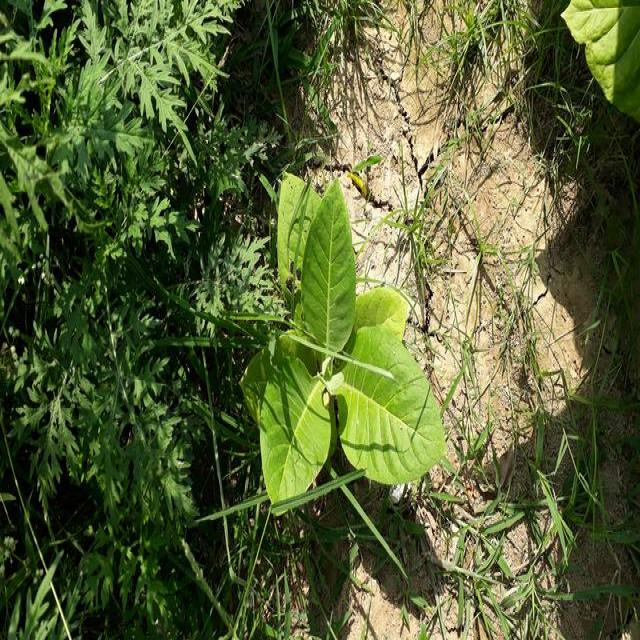crop: (254, 185, 443, 500), (559, 2, 640, 132)
